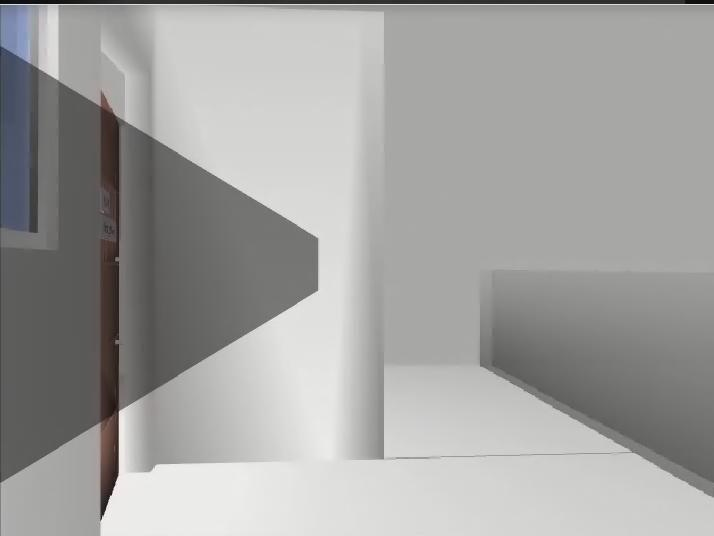door: (101, 91, 119, 520)
